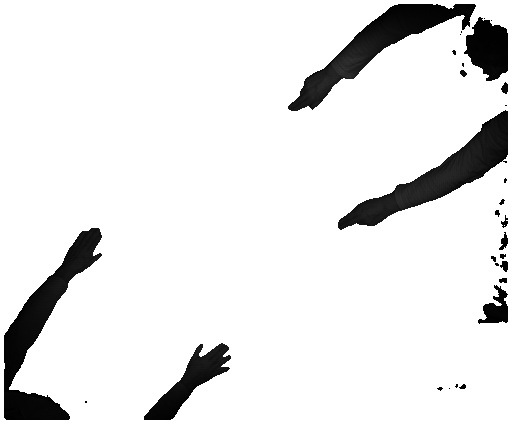hand: (184, 336, 231, 386), (63, 224, 103, 278), (336, 197, 395, 231), (288, 71, 335, 111)
